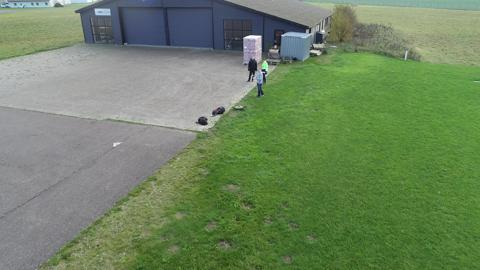RockwoolPallet: (243, 34, 263, 65)
